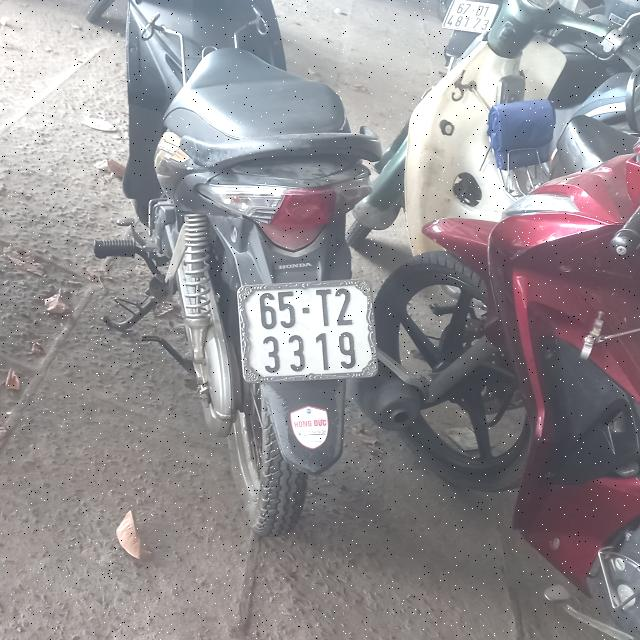1: (315, 333, 330, 371)
2: (334, 288, 352, 325)
3: (262, 336, 281, 372), (288, 334, 306, 371)
5: (278, 291, 296, 328)
6: (259, 292, 276, 330)
9: (338, 332, 356, 368)
T: (316, 288, 332, 326)
